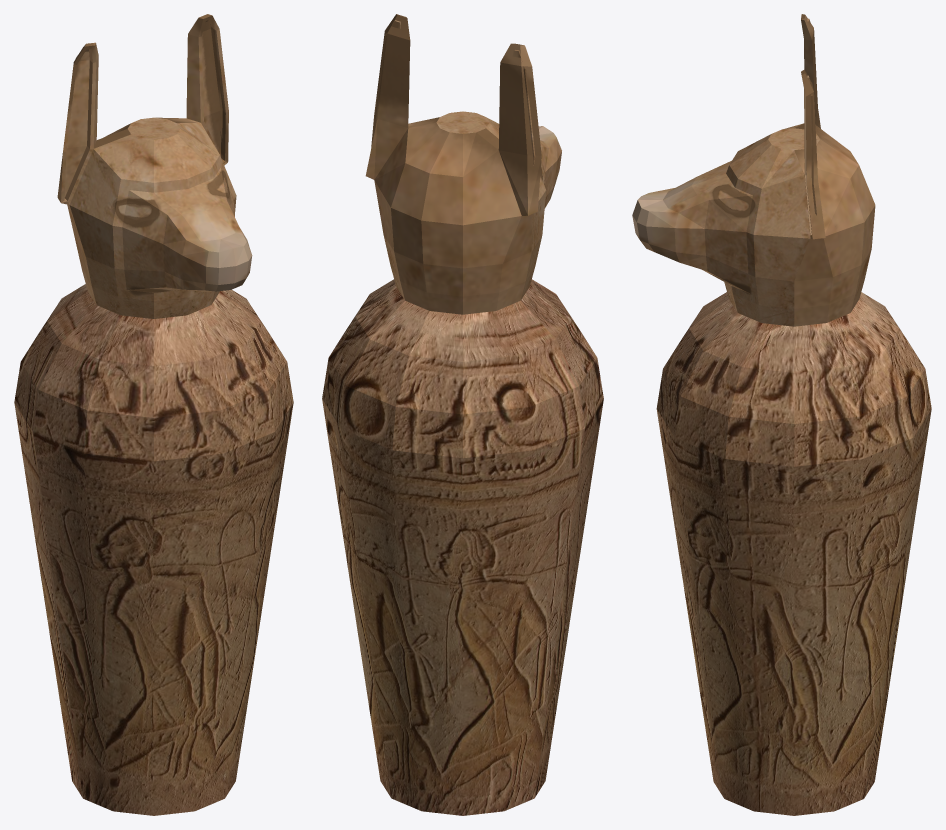
The model's file is canopic_jar.FBX.
3 renders of one model, left to right at view 1: azimuth 30°, elevation 25°; view 2: azimuth 150°, elevation 25°; view 3: azimuth 270°, elevation 25°, orthographic. The views are drawn at different scales.
Visible parts, largest first — view 1: Cylinder001; view 2: Cylinder001; view 3: Cylinder001.
Boxes of the visible parts, <box> form: Cylinder001: <box>14,14,293,815</box>; Cylinder001: <box>322,14,603,815</box>; Cylinder001: <box>632,14,931,815</box>.
Bounding box in the file's own units: 62.2 × 184 × 67.71.
Materials: 2 (2 with a texture image).
